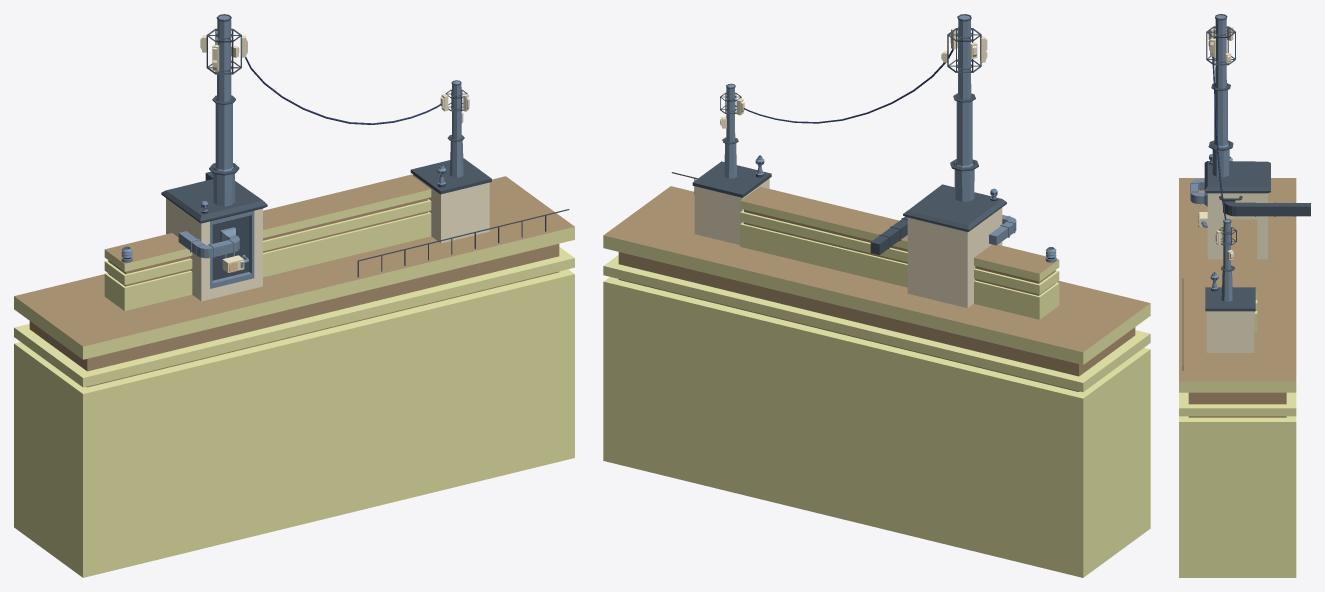
Rendered from Tutorial_Level_Textured.fbx.
3 views of the same model, side by side, from view 1: azimuth 30°, elevation 25°; view 2: azimuth 150°, elevation 25°; view 3: azimuth 270°, elevation 25° (orthographic). The views are drawn at different scales.
Visible parts, largest first — view 1: Building-XL, Bulding-S, Electricity-Building2, Electricity-Building1, Antenna-Tower-L, Airvent2, Antenna-Tower-S; view 2: Building-XL, Bulding-S, Electricity-Building2, Electricity-Building1, Antenna-Tower-L, Antenna-Tower-S, Airvent1; view 3: Building-XL, Electricity-Building2, Electricity-Building1, Antenna-Tower-L, Bulding-S, Airvent1, Antenna-Tower-S, Antenna-Tower-L-Hexagon-Metal, Airvent2, Cable.
Part boxes in pixels (x1,y1,x2,y2): Building-XL: (14, 176, 574, 577); Bulding-S: (104, 174, 431, 310); Electricity-Building2: (161, 179, 267, 301); Electricity-Building1: (410, 158, 491, 243); Antenna-Tower-L: (213, 15, 234, 206); Airvent2: (178, 227, 239, 258); Antenna-Tower-S: (449, 81, 463, 177); Building-XL: (603, 186, 1150, 577); Bulding-S: (740, 186, 1059, 319); Electricity-Building2: (903, 184, 1006, 308); Electricity-Building1: (692, 161, 771, 244); Antenna-Tower-L: (954, 15, 974, 201); Antenna-Tower-S: (724, 84, 737, 178); Airvent1: (870, 216, 907, 255); Building-XL: (1179, 178, 1296, 577); Electricity-Building2: (1204, 161, 1270, 259); Electricity-Building1: (1205, 287, 1255, 352); Antenna-Tower-L: (1212, 15, 1229, 177); Bulding-S: (1223, 219, 1257, 332); Airvent1: (1223, 200, 1310, 216); Antenna-Tower-S: (1221, 219, 1232, 301); Antenna-Tower-L-Hexagon-Metal: (1206, 26, 1235, 65); Airvent2: (1190, 178, 1207, 206); Cable: (1212, 56, 1226, 219).
Bounding box in the file's own units: 8402 × 8202 × 2297.
